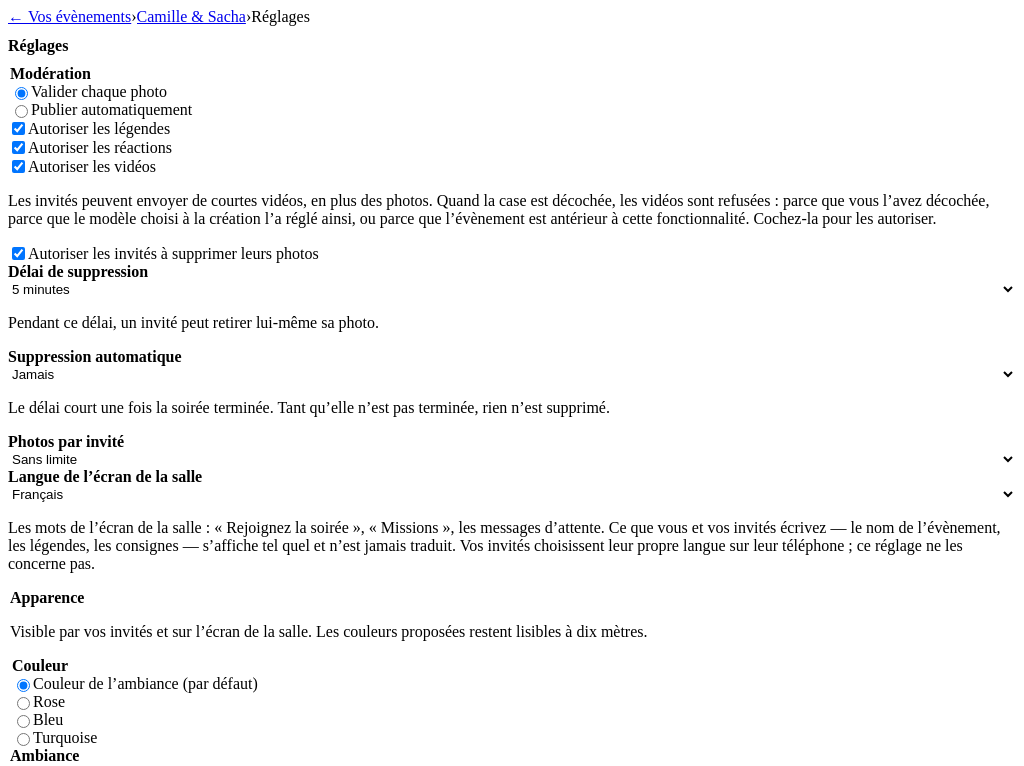
Test: EventSettingsPage › takes the warning away again when the host goes back to validating each photo
The width and height of the screenshot is (1024, 766).
Click the radio button labelled "Publier automatiquement" at (22, 112), box [15,105,28,118]
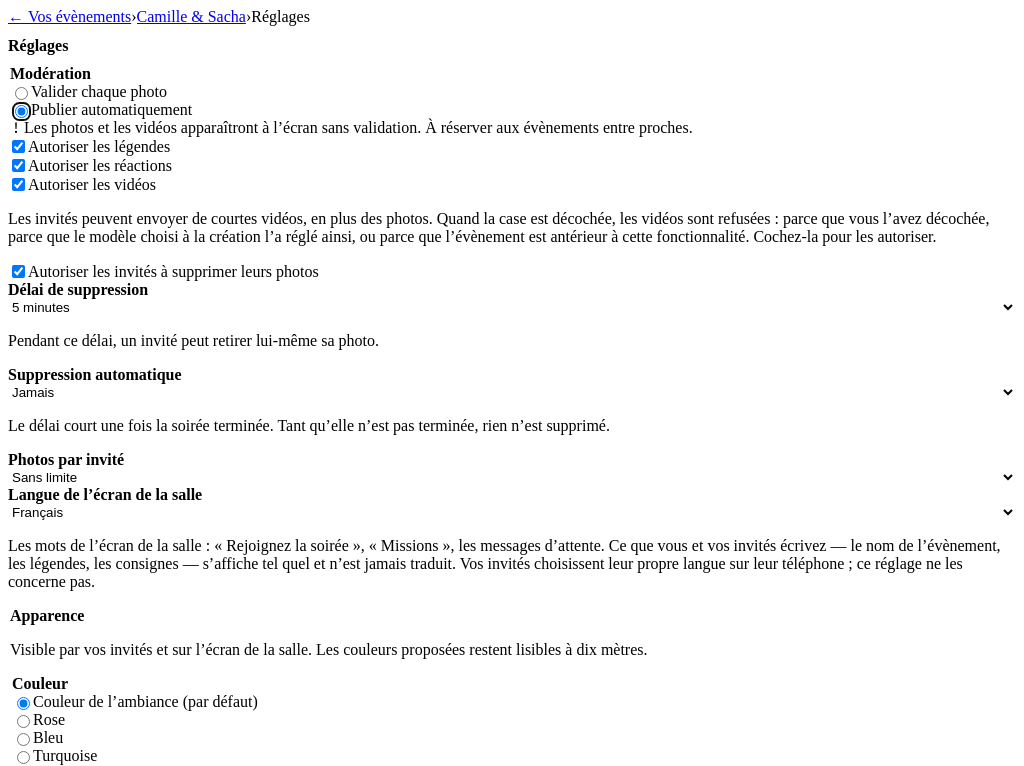
Click the radio button labelled "Valider chaque photo" at (22, 94), box [15,87,28,100]
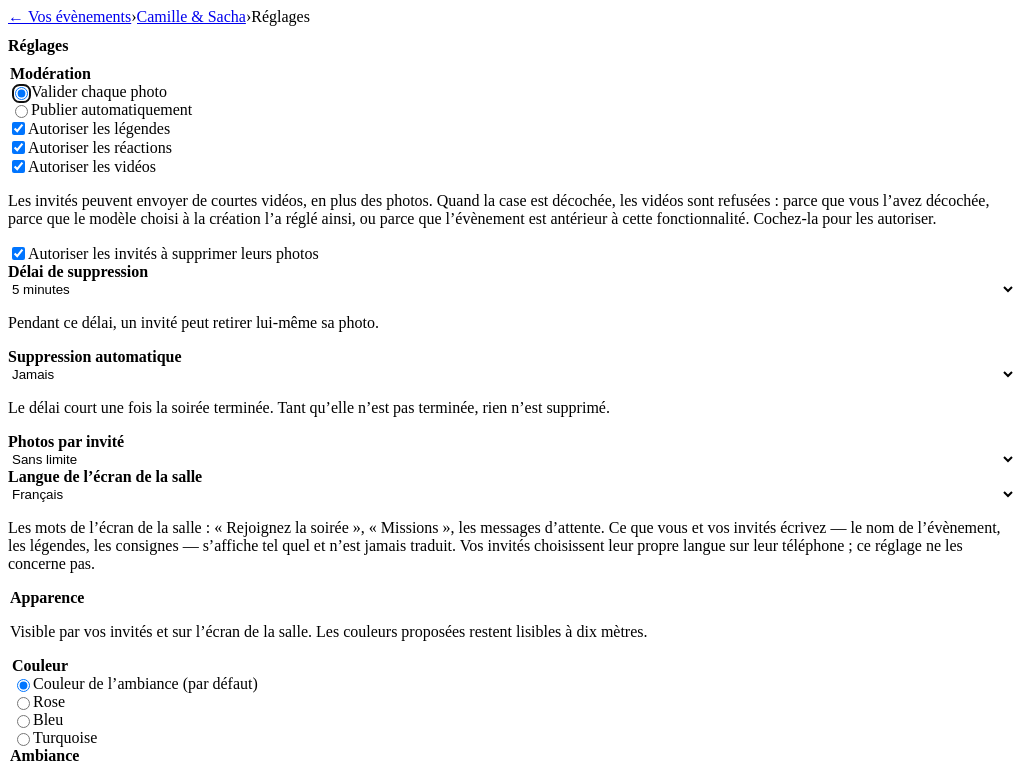
Expected: the text "Les photos et les vidéos apparaîtront à l’écran sans validation. À réserver aux évènements entre proches." is gone
